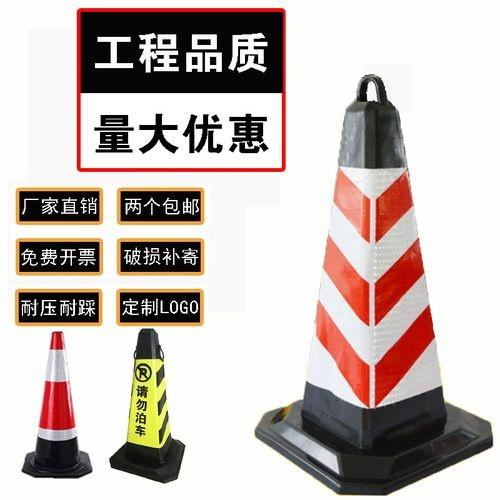cone_barrel: (262, 76, 467, 476), (110, 328, 184, 475), (21, 329, 90, 478)
